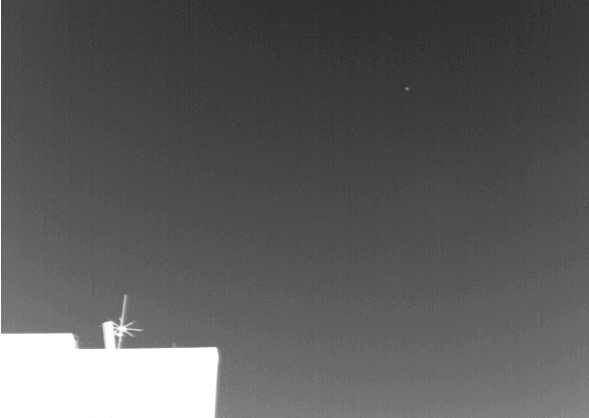dim target: (404, 86, 410, 91)
